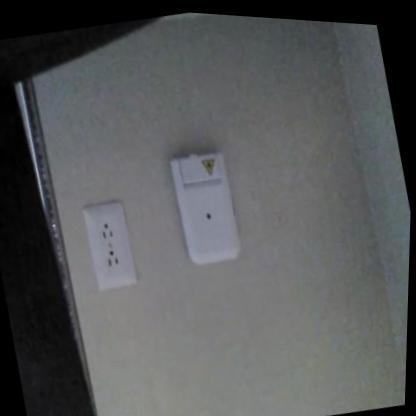OUTLET: (78, 200, 141, 293)
